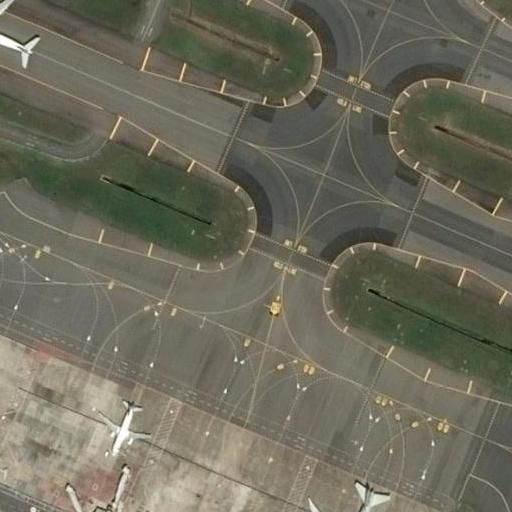Aircraft: (302, 470, 409, 512), (304, 477, 413, 512), (0, 0, 41, 88), (95, 396, 152, 458), (0, 0, 42, 84), (98, 397, 148, 460)
